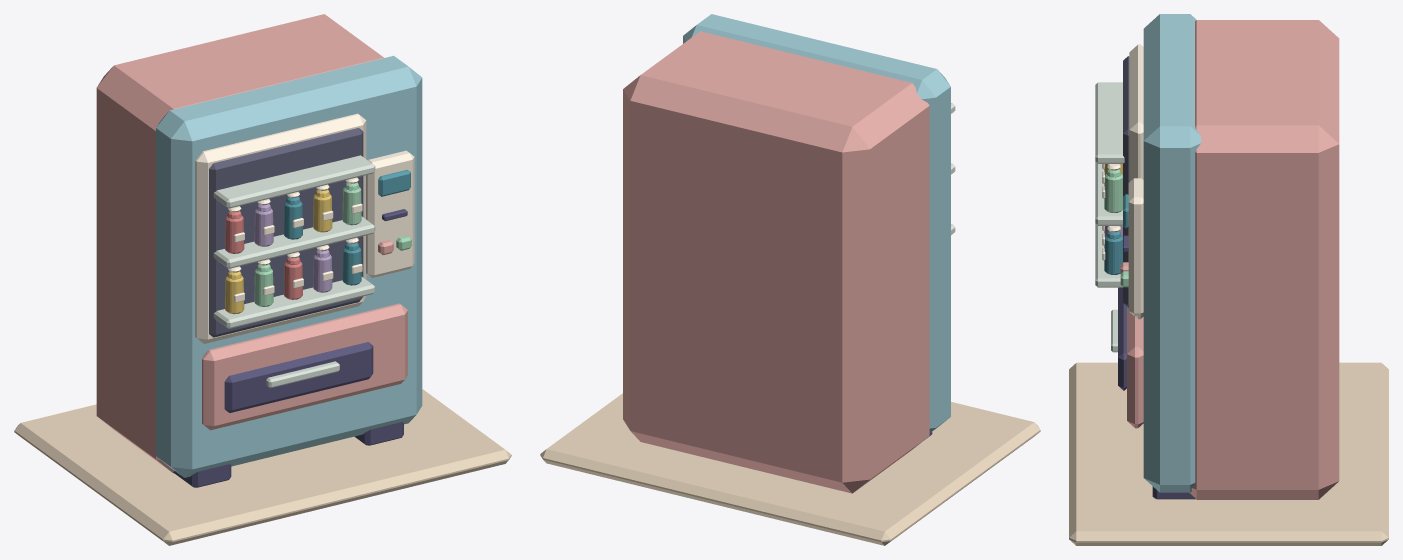
3 views of the same model, side by side, from view 1: azimuth 30°, elevation 25°; view 2: azimuth 150°, elevation 25°; view 3: azimuth 270°, elevation 25° (orthographic). The views are drawn at different scales.
Parts seen in each view (by area): view 1: Blush enamel, Powder blue enamel, Limestone, Painted cream, Display interior, Display trim, Warm slate, Sea glass, Soft mint, Lilac drink, Lemon drink, Berry drink; view 2: Blush enamel, Limestone, Powder blue enamel; view 3: Blush enamel, Limestone, Powder blue enamel, Painted cream, Display trim, Warm slate, Display interior, Sea glass, Soft mint.
Boxes of the visible parts, x1=… form: Blush enamel: x1=96, y1=14, x2=407, y2=473; Powder blue enamel: x1=156, y1=55, x2=422, y2=477; Limestone: x1=14, y1=389, x2=511, y2=545; Painted cream: x1=195, y1=113, x2=414, y2=343; Display interior: x1=209, y1=128, x2=363, y2=337; Display trim: x1=213, y1=155, x2=375, y2=388; Warm slate: x1=173, y1=209, x2=407, y2=487; Sea glass: x1=283, y1=169, x2=410, y2=285; Soft mint: x1=254, y1=182, x2=411, y2=306; Lilac drink: x1=254, y1=204, x2=332, y2=292; Lemon drink: x1=225, y1=189, x2=332, y2=314; Berry drink: x1=225, y1=211, x2=302, y2=299; Blush enamel: x1=623, y1=31, x2=929, y2=493; Limestone: x1=540, y1=393, x2=1040, y2=545; Powder blue enamel: x1=683, y1=14, x2=950, y2=432; Blush enamel: x1=1120, y1=20, x2=1339, y2=499; Limestone: x1=1069, y1=362, x2=1388, y2=545; Powder blue enamel: x1=1143, y1=14, x2=1200, y2=492; Painted cream: x1=1102, y1=44, x2=1143, y2=319; Display trim: x1=1095, y1=82, x2=1124, y2=352; Warm slate: x1=1118, y1=235, x2=1195, y2=499; Display interior: x1=1123, y1=56, x2=1129, y2=307; Sea glass: x1=1104, y1=169, x2=1128, y2=274; Soft mint: x1=1104, y1=169, x2=1128, y2=287.
Bounding box in the file's own units: 2.3 × 2.4 × 1.78.
